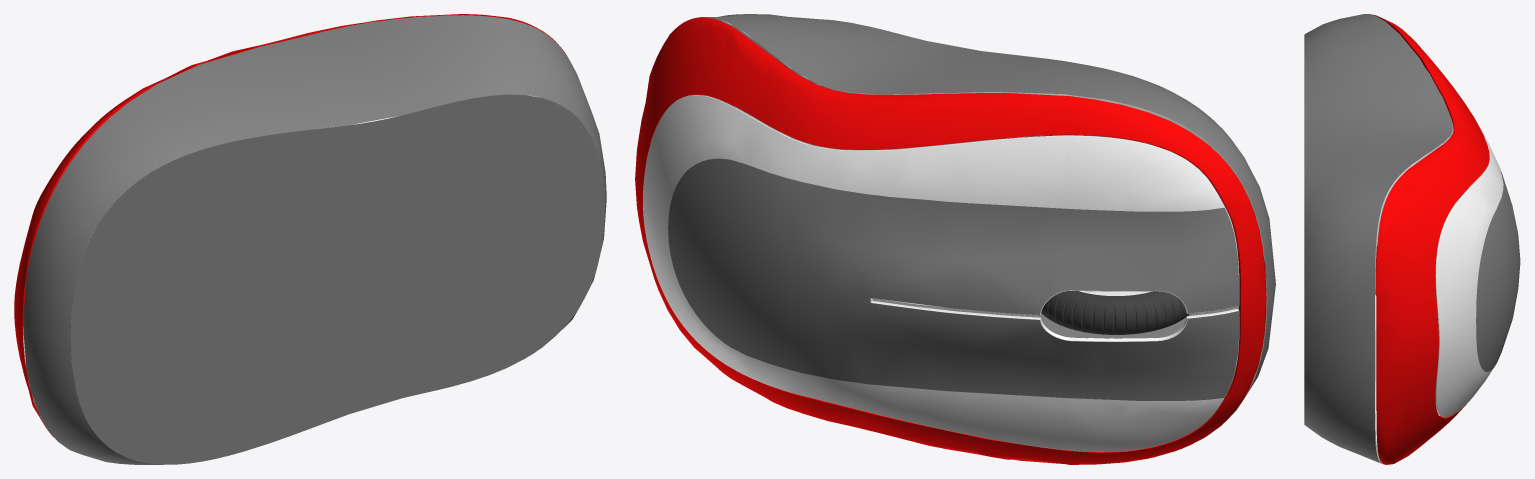
3 renders of one model, left to right at view 1: azimuth 30°, elevation 25°; view 2: azimuth 150°, elevation 25°; view 3: azimuth 270°, elevation 25°, orthographic. The views are drawn at different scales.
Visible parts, largest first — view 1: mouse for computer.IGS (×6); view 2: mouse for computer.IGS (×24); view 3: mouse for computer.IGS (×12).
Boxes of the visible parts, <box> form: mouse for computer.IGS (×6): <box>14,15,606,464</box>; mouse for computer.IGS (×24): <box>635,14,1275,464</box>; mouse for computer.IGS (×12): <box>1304,14,1520,464</box>.
Size of the model in its own units: 0.1012 by 0.0589 by 0.0385.
